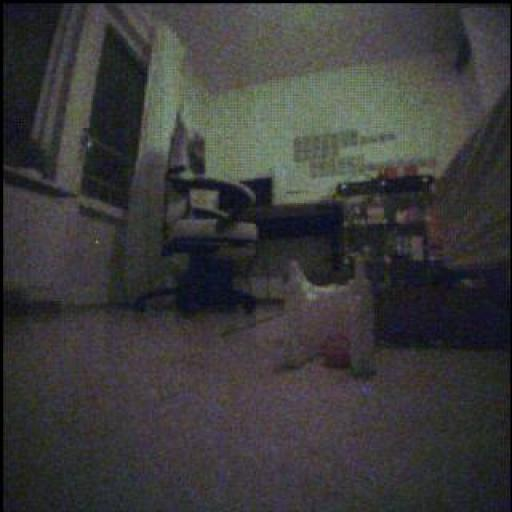basket: (320, 330, 355, 373)
